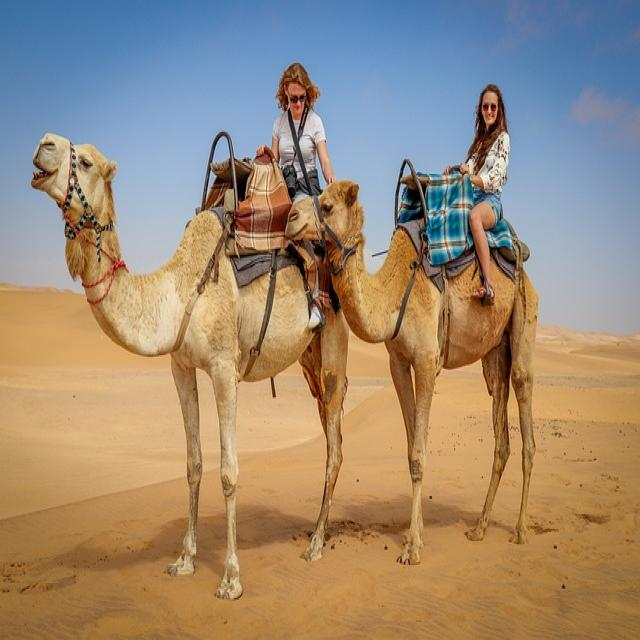Herbivorous: (30, 135, 341, 603), (294, 183, 534, 568)
